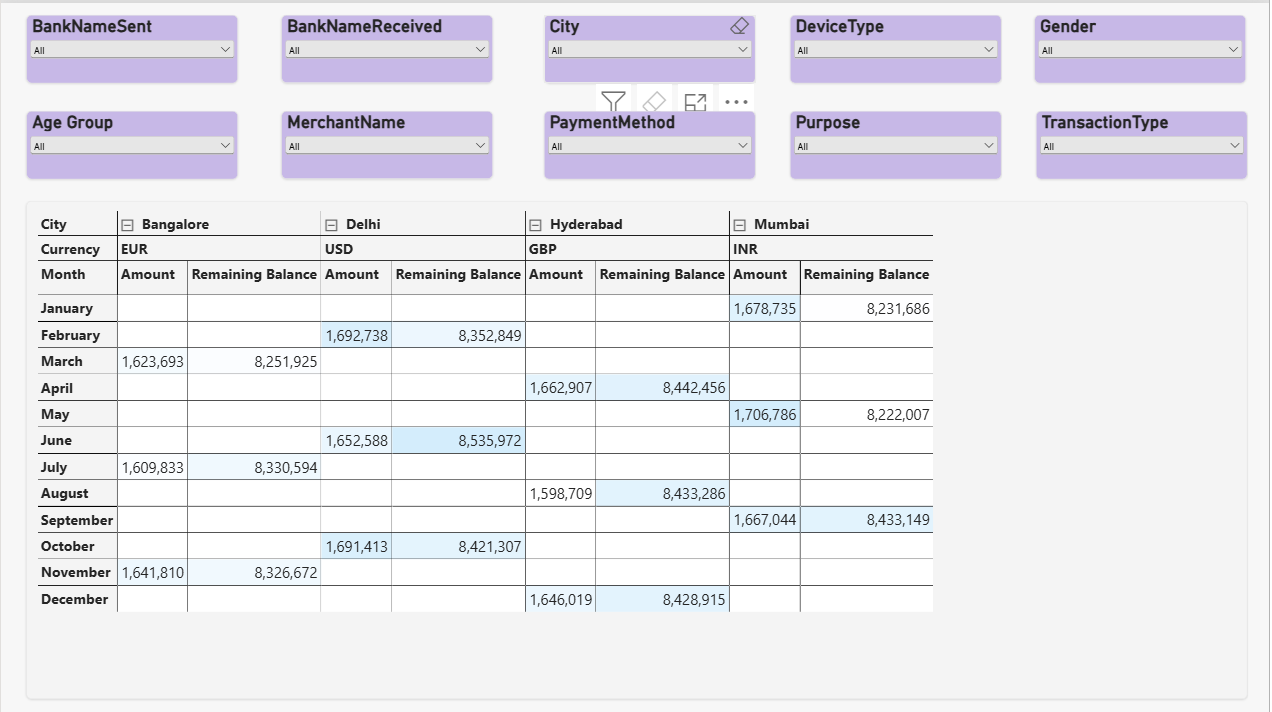

Layout of this report page (visuals, bound fields, positions):
{"tool":"powerbi","page":{"name":"Page 2","canvas":[1920,1080],"ordinal":1},"visuals":[{"type":"slicer","fields":{"Values":["UPI Transactions.BankNameSent"]},"box":[37.5,17.5,320,103],"z":0},{"type":"slicer","fields":{"Values":["UPI Transactions.BankNameReceived"]},"box":[425,17.5,320,102.5],"z":1000},{"type":"slicer","fields":{"Values":["UPI Transactions.Gender"]},"box":[1565,17.5,320,103],"z":2000},{"type":"slicer","fields":{"Values":["UPI Transactions.DeviceType"]},"box":[1195,17.5,320,103],"z":3000},{"type":"slicer","fields":{"Values":["UPI Transactions.City"]},"box":[822.5,17.5,320,103],"z":4000},{"type":"slicer","fields":{"Values":["UPI Transactions.Age Group"]},"box":[37.5,162.5,320,103],"z":5000},{"type":"slicer","fields":{"Values":["UPI Transactions.MerchantName"]},"box":[425,162.5,320,102.5],"z":6000},{"type":"slicer","fields":{"Values":["UPI Transactions.TransactionType"]},"box":[1566.7,162.5,320,103],"z":7000},{"type":"slicer","fields":{"Values":["UPI Transactions.Purpose"]},"box":[1195,162.5,320,103],"z":8000},{"type":"slicer","fields":{"Values":["UPI Transactions.PaymentMethod"]},"box":[822.5,162.5,320,103],"z":9000},{"type":"pivotTable","fields":{"Values":["Sum(UPI Transactions.Amount)","Sum(UPI Transactions.RemainingBalance)"],"Rows":["UPI Transactions.TransactionDate.Variation.Date Hierarchy.Month"],"Columns":["UPI Transactions.City","UPI Transactions.Currency"]},"box":[38.6,299.8,1848.8,754.1],"z":10000}]}

Visuals, with their boxes in screenshot pixels (x1, y1, x2, y2), scaled from the page's 1920x1080 canvas onto the 1272x712 screenshot:
slicer - UPI Transactions.BankNameSent: 25,12,237,79
slicer - UPI Transactions.BankNameReceived: 282,12,494,79
slicer - UPI Transactions.Gender: 1037,12,1249,79
slicer - UPI Transactions.DeviceType: 792,12,1004,79
slicer - UPI Transactions.City: 545,12,757,79
slicer - UPI Transactions.Age Group: 25,107,237,175
slicer - UPI Transactions.MerchantName: 282,107,494,175
slicer - UPI Transactions.TransactionType: 1038,107,1250,175
slicer - UPI Transactions.Purpose: 792,107,1004,175
slicer - UPI Transactions.PaymentMethod: 545,107,757,175
pivotTable - Sum(UPI Transactions.Amount) x Sum(UPI Transactions.RemainingBalance): 26,198,1250,695
